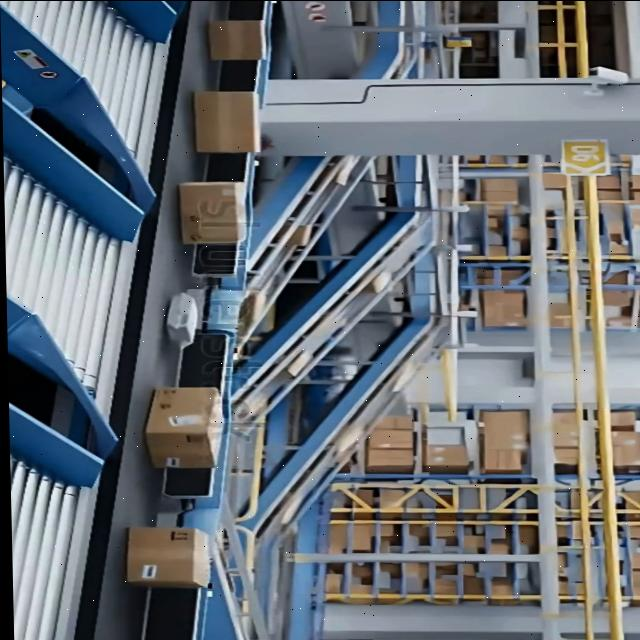product 1: (144, 384, 227, 468), (178, 180, 249, 243), (192, 90, 262, 152)
product 2: (164, 292, 201, 348)
